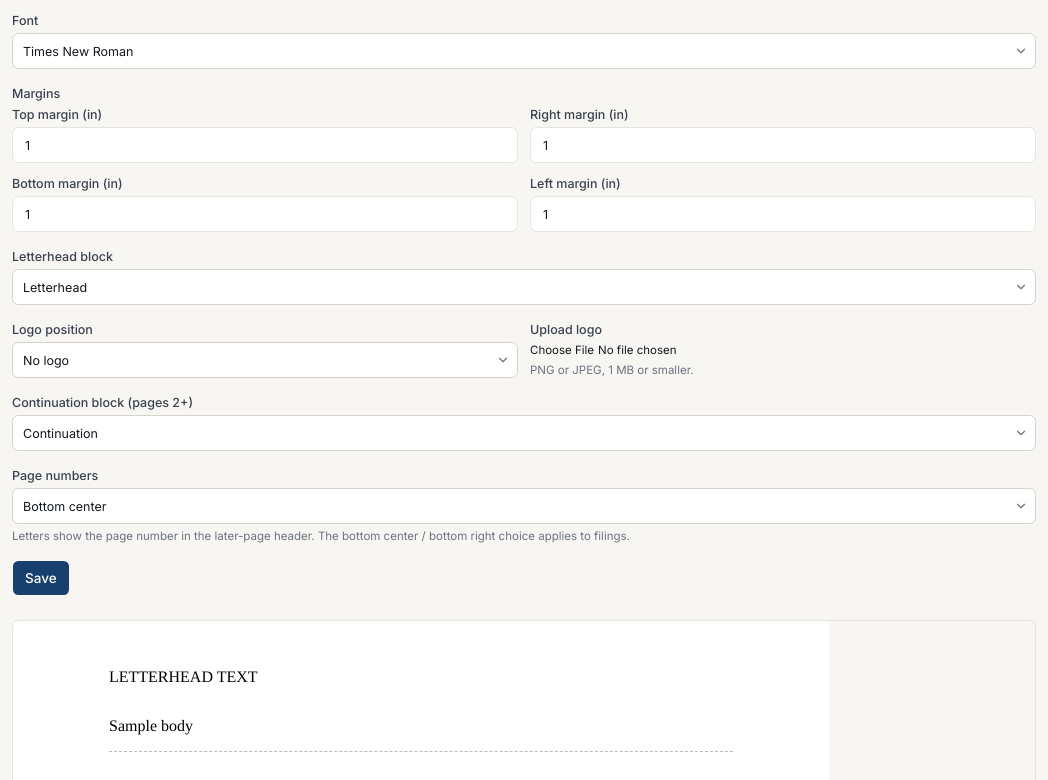
Test case: DocumentStyleForm › Garamond shows the line-break note; other fonts do not
Expected: the text "Line breaks may differ slightly between Word and PDF." is not shown
Step 1. Select "Garamond" in the dropdown labelled "Font" → [524, 51], box [12, 33, 1036, 69]
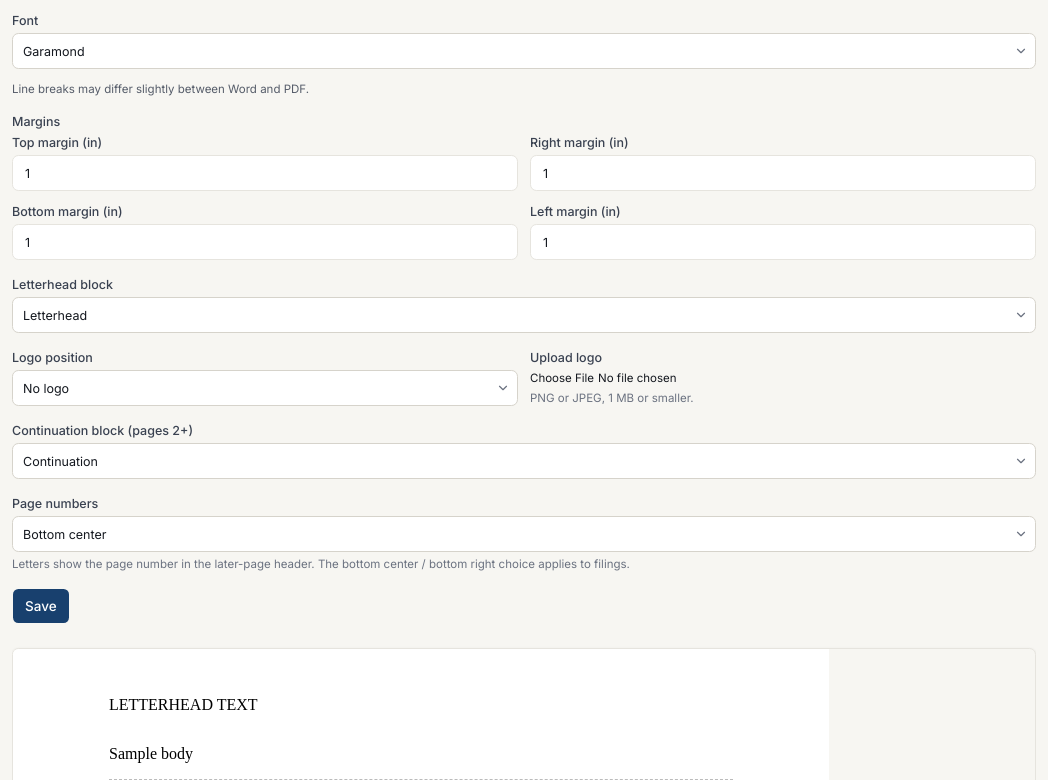
Expected: the text "Line breaks may differ slightly between Word and PDF." is shown, [12, 82, 309, 96]
